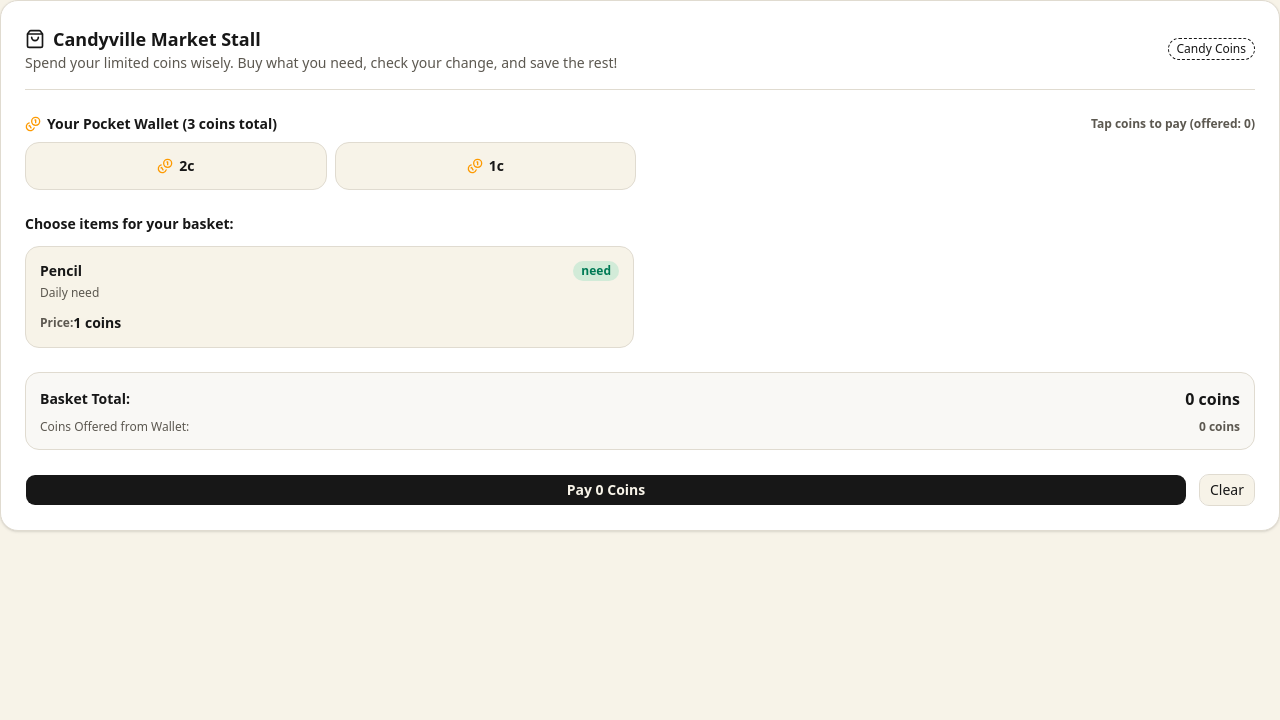
CoinShopSimulation › completes purchase successfully when coins and change are valid
Click the button with test id "shop-item-item-1" at (61, 270), box [25,246,634,348]
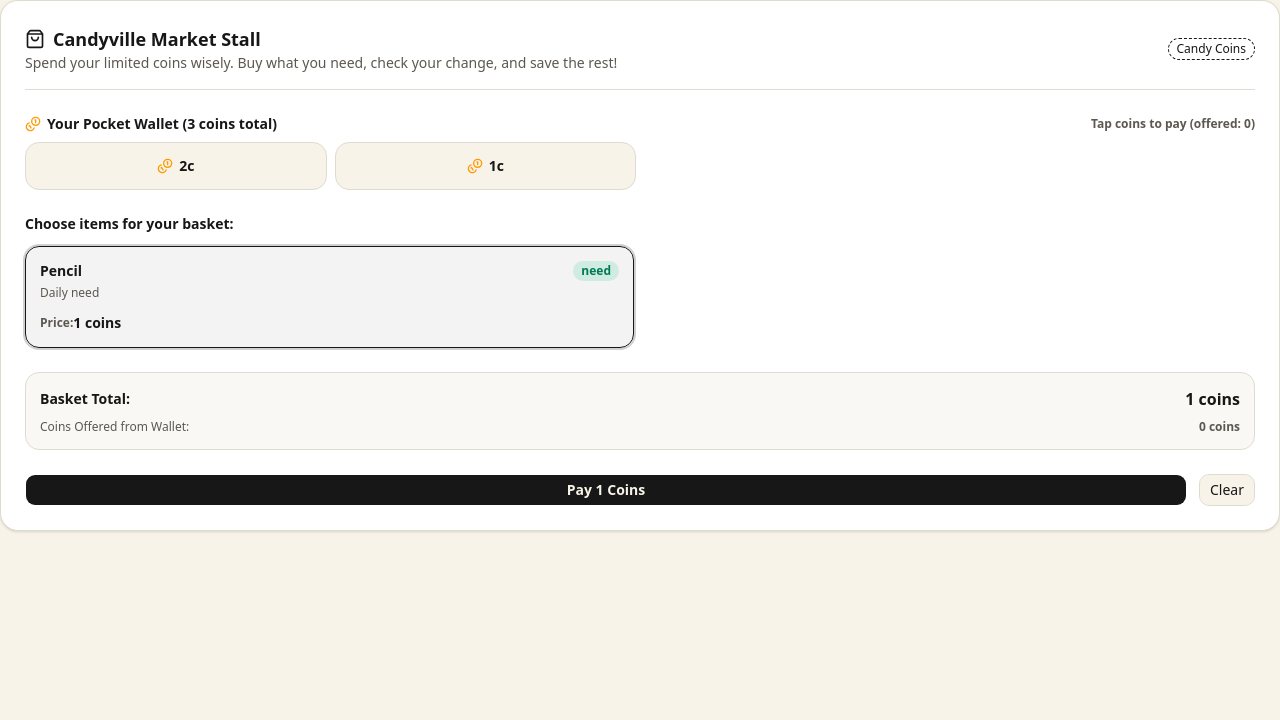
Click the button with test id "coin-wallet-coin-2" at (485, 166), box [334,142,636,190]
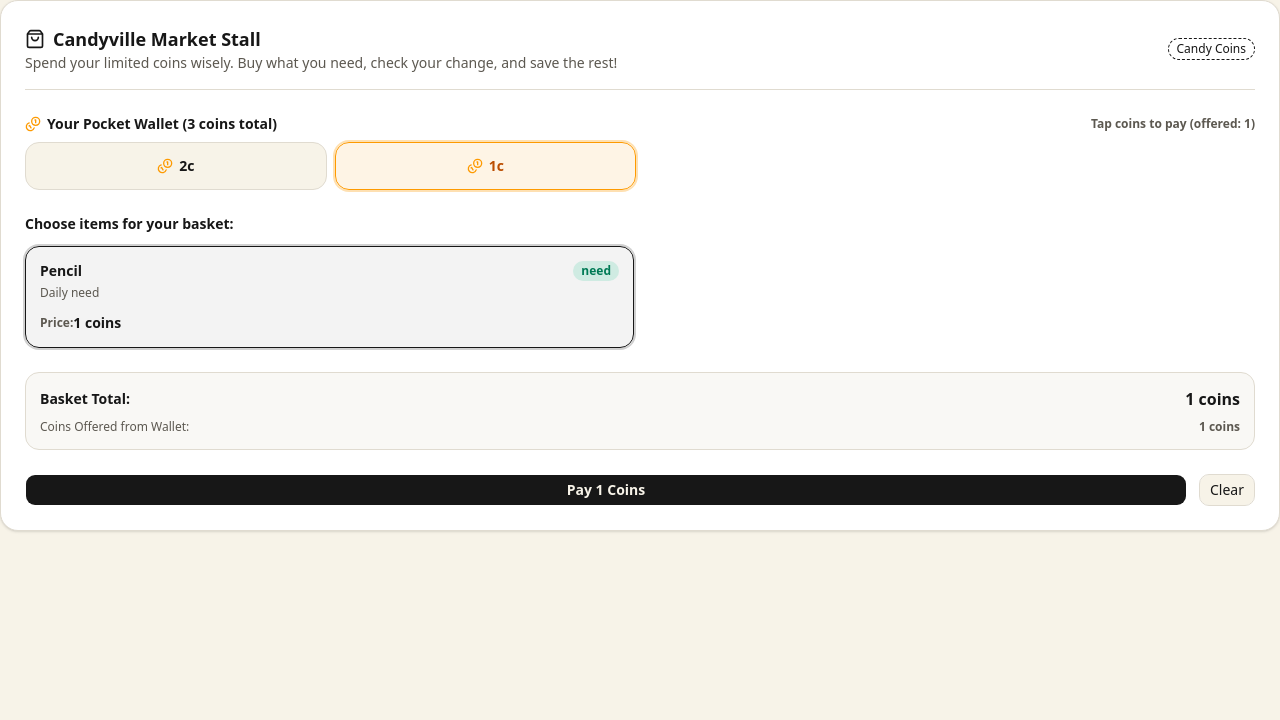
Click the button with test id "coin-shop-pay-btn" at (606, 490), box [25,474,1187,506]
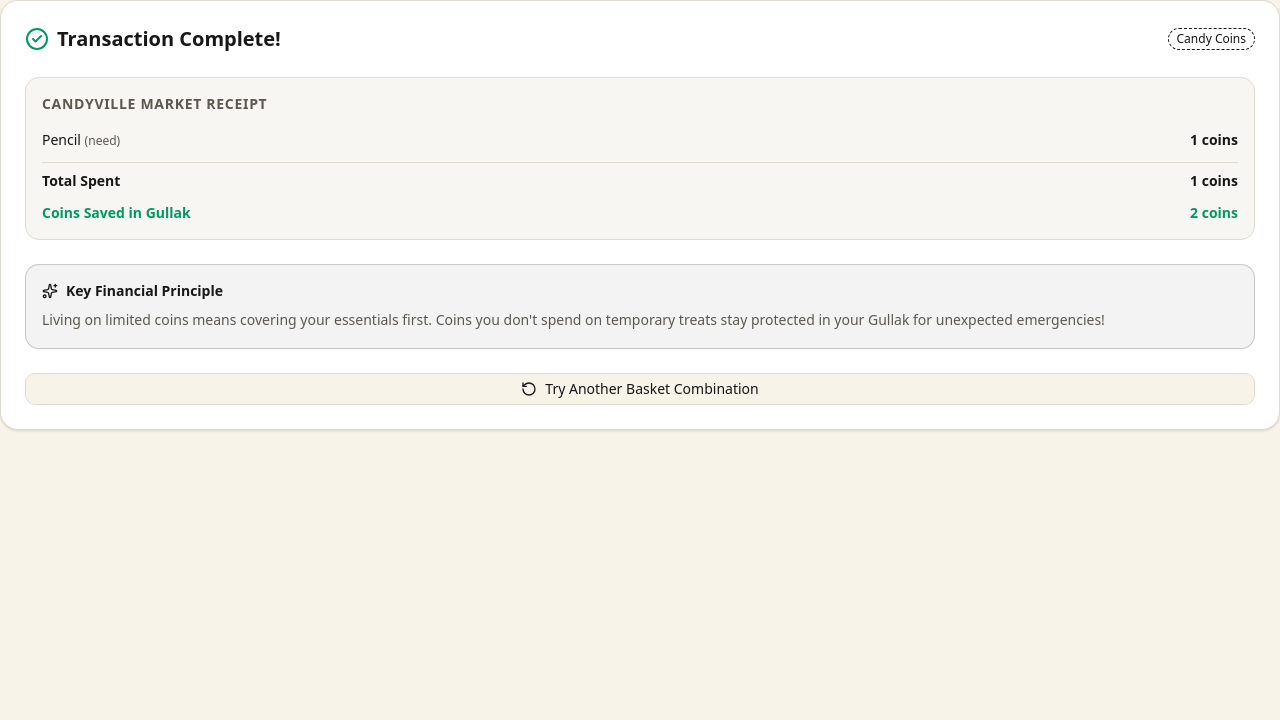
Result: the element with test id "coin-shop-completed" is shown at [0,0,1279,430]
Result: the heading "Transaction Complete!" is shown at [57,25,281,53]
Result: the text "Key Financial Principle" is shown at [66,281,223,301]
